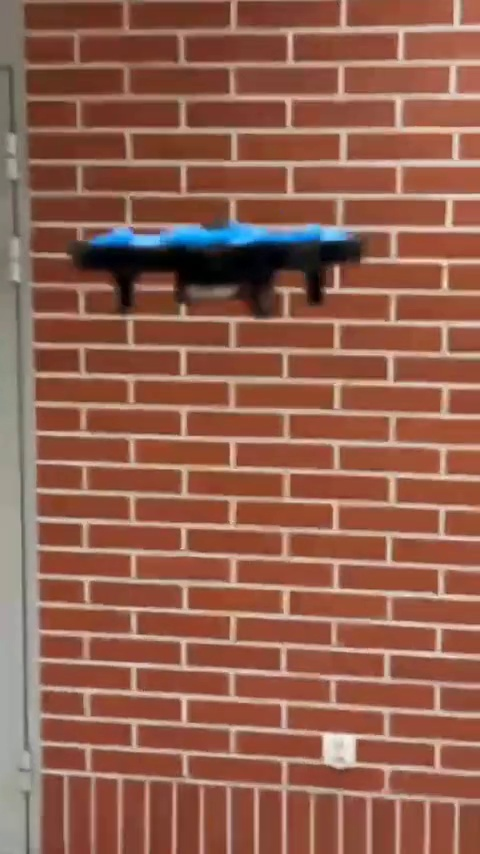drone: (71, 225, 364, 307)
